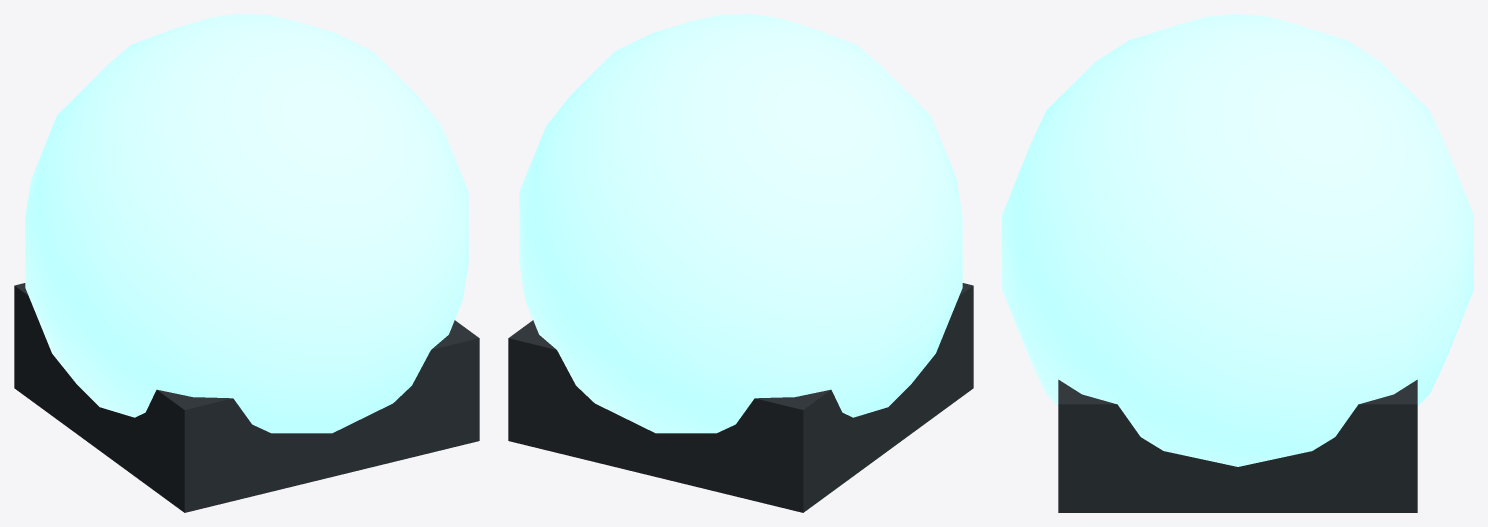
Rendered from smart_seeker.glb.
The picture shows the model from 3 angles, left to right: view 1: azimuth 30°, elevation 25°; view 2: azimuth 150°, elevation 25°; view 3: azimuth 270°, elevation 25°; orthographic projection. The views are drawn at different scales.
Parts seen in each view (by area): view 1: Dome, Mount; view 2: Dome, Mount; view 3: Dome, Mount.
Boxes of the visible parts, x1,y1,x2,y2 form: Dome: (25, 14, 468, 433); Mount: (14, 283, 479, 512); Dome: (519, 14, 962, 433); Mount: (508, 283, 973, 512); Dome: (1002, 14, 1473, 466); Mount: (1058, 379, 1417, 512).
Size of the model in its own units: 0.3939 by 0.4 by 0.3939.
